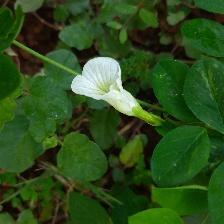shankupushpam: (71, 57, 148, 120)
